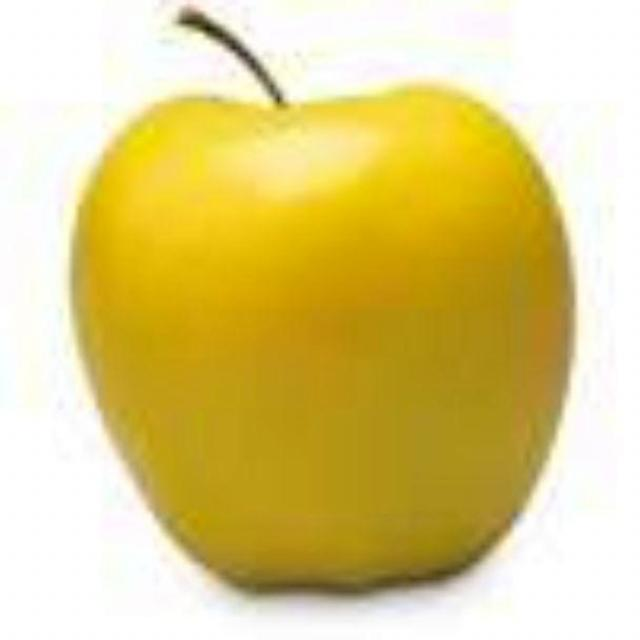HEALTHY: (49, 62, 586, 609)
